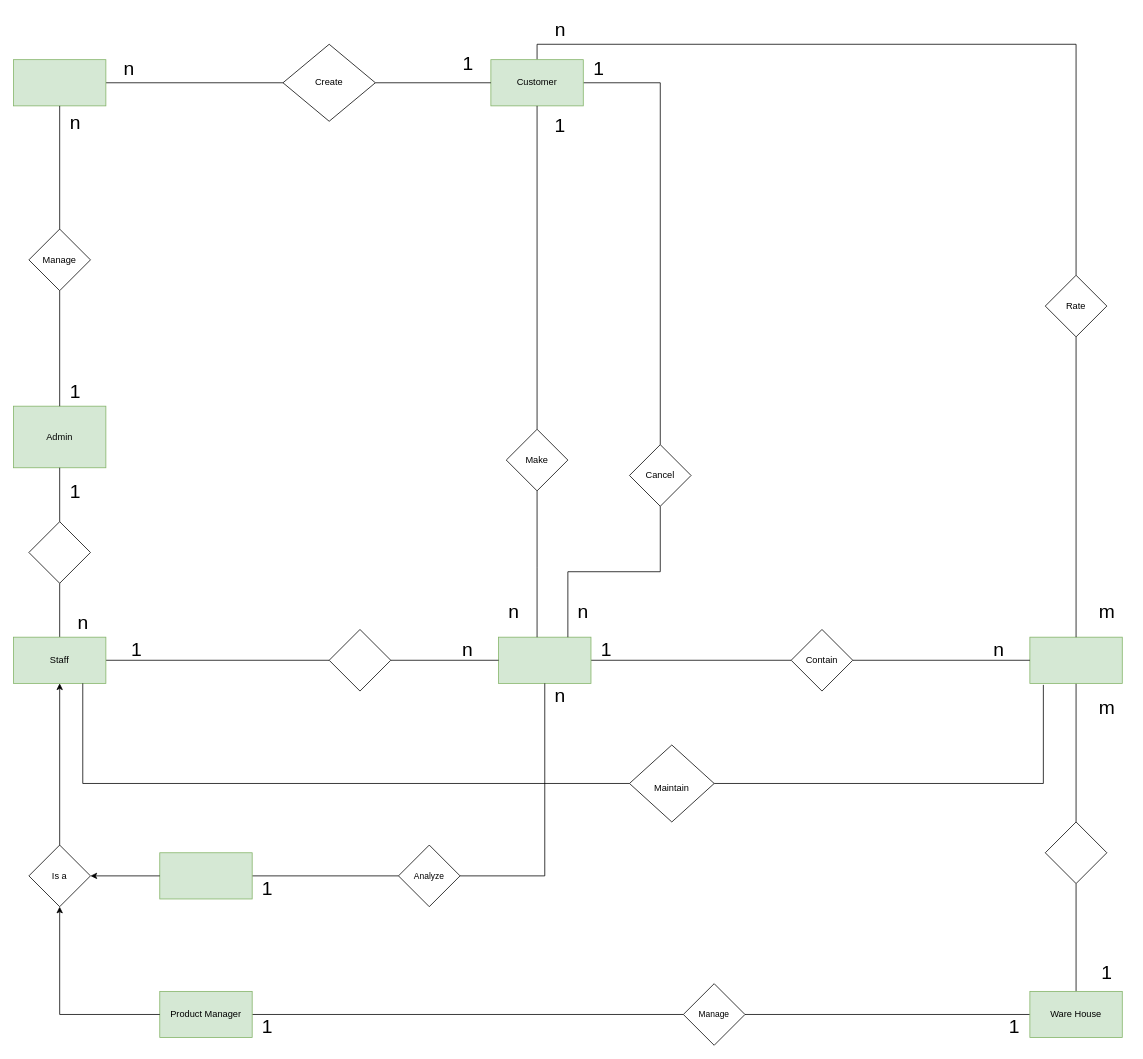
The diagram is 1143 pixels wide and 1059 high, and some of its shapes have lost their labels. The centre of each missing label's shape, as x and y in pixels:
"Account" belongs at point 59,82.
"Authorize" belongs at point 59,552.
"Handle" belongs at point 359,660.
"Item" belongs at point 1075,659.
"Order" belongs at point 544,659.
"Sales Manager" belongs at point 205,875.
"Store" belongs at point 1076,852.
